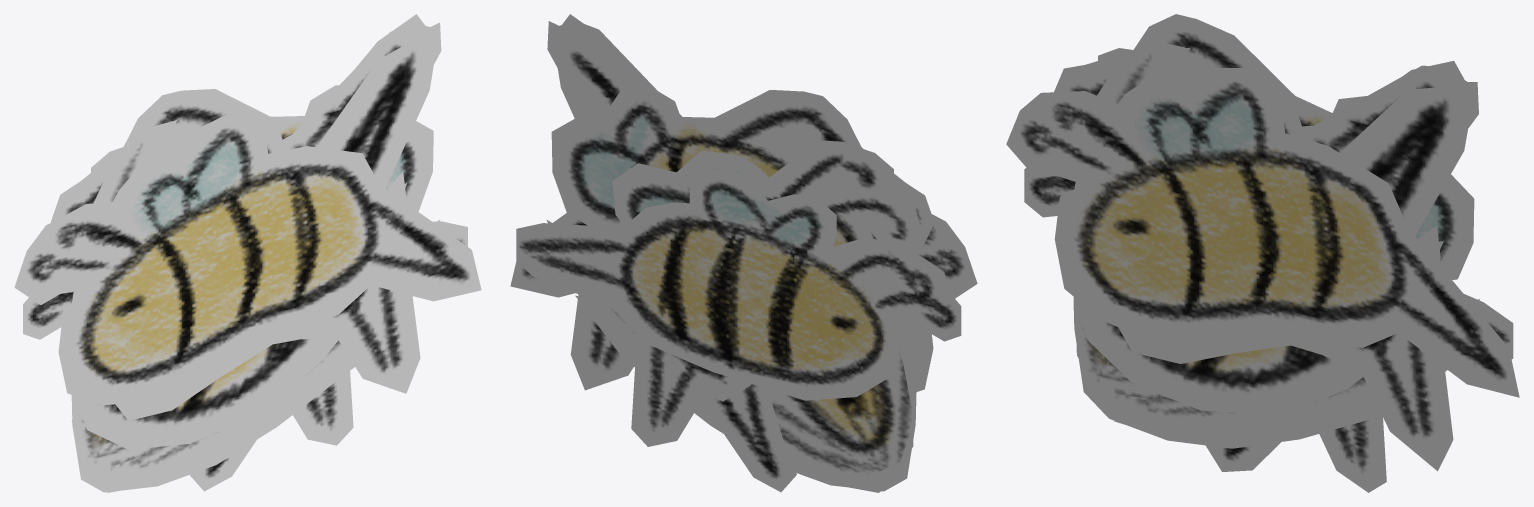
Rendered from BeeAttack.fbx.
3 views of the same model, side by side, from view 1: azimuth 30°, elevation 25°; view 2: azimuth 150°, elevation 25°; view 3: azimuth 330°, elevation 25° (orthographic). The views are drawn at different scales.
Visible parts, largest first — view 1: BeeAttack12, BeeAttack10, BeeAttack11, BeeAttack3, BeeAttack8, BeeAttack7, BeeAttack9, BeeAttack2, BeeAttack1; view 2: BeeAttack1, BeeAttack3, BeeAttack2, BeeAttack4, BeeAttack5, BeeAttack12, BeeAttack11, BeeAttack7, BeeAttack10; view 3: BeeAttack12, BeeAttack10, BeeAttack11, BeeAttack3, BeeAttack8, BeeAttack7, BeeAttack9, BeeAttack2, BeeAttack1.
Part boxes in pixels (x1,y1,x2,y2): BeeAttack12: (14, 111, 481, 405); BeeAttack10: (74, 32, 435, 449); BeeAttack11: (115, 127, 420, 420); BeeAttack3: (51, 85, 433, 491); BeeAttack8: (91, 22, 441, 488); BeeAttack7: (71, 25, 429, 492); BeeAttack9: (75, 22, 415, 466); BeeAttack2: (91, 147, 353, 445); BeeAttack1: (23, 221, 467, 339); BeeAttack1: (516, 168, 961, 400); BeeAttack3: (551, 86, 934, 492); BeeAttack2: (612, 140, 923, 446); BeeAttack4: (552, 29, 914, 475); BeeAttack5: (546, 14, 916, 492); BeeAttack12: (510, 213, 977, 391); BeeAttack11: (570, 294, 633, 390); BeeAttack7: (551, 25, 917, 491); BeeAttack10: (558, 69, 926, 392); BeeAttack12: (1006, 68, 1519, 397); BeeAttack10: (1074, 85, 1470, 415); BeeAttack11: (1118, 100, 1453, 471); BeeAttack3: (1054, 14, 1474, 471); BeeAttack8: (1094, 72, 1478, 438); BeeAttack7: (1073, 40, 1466, 448); BeeAttack9: (1076, 65, 1449, 399); BeeAttack2: (1098, 48, 1386, 492); BeeAttack1: (1024, 168, 1513, 358).
Bounding box in the file's own units: 41.99 × 36.62 × 0.5999.
Materials: 1 (1 with a texture image).
